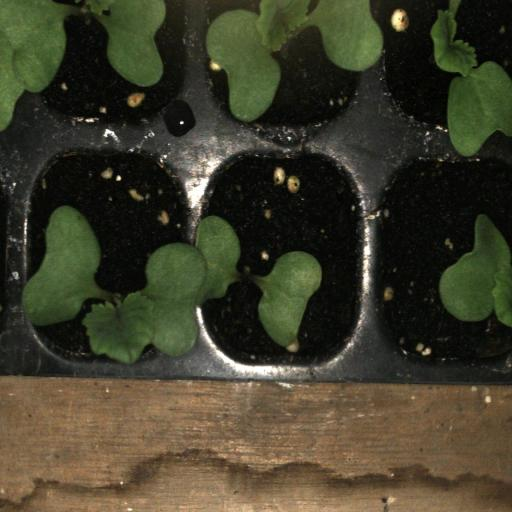seedling: (14, 138, 195, 372), (194, 136, 372, 370), (199, 0, 375, 133), (375, 0, 512, 138)
